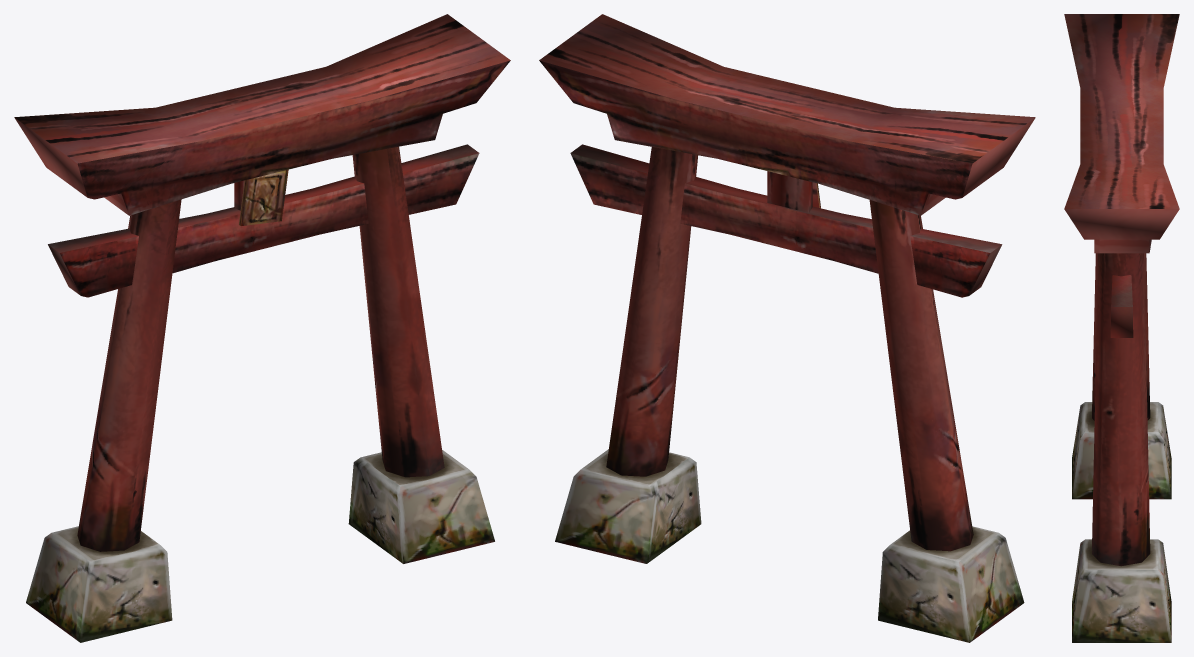
Rendered from PRP_GateAncientB.FBX.
3 views of the same model, side by side, from view 1: azimuth 30°, elevation 25°; view 2: azimuth 150°, elevation 25°; view 3: azimuth 270°, elevation 25° (orthographic). The views are drawn at different scales.
Parts seen in each view (by area): view 1: PRP_GateAncientB; view 2: PRP_GateAncientB; view 3: PRP_GateAncientB.
Part boxes in pixels (x1,y1,x2,y2): PRP_GateAncientB: [14, 14, 510, 642]; PRP_GateAncientB: [539, 14, 1035, 642]; PRP_GateAncientB: [1064, 14, 1179, 642].
Size of the model in its own units: 1296 by 1384 by 328.
